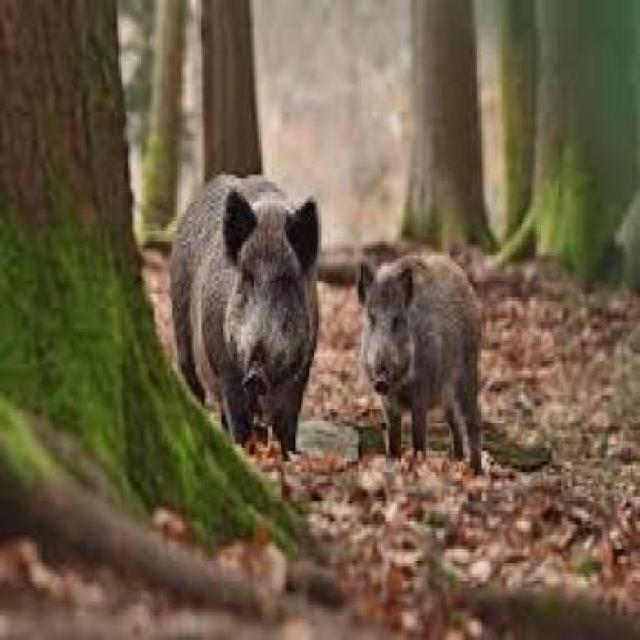wildboar: (166, 162, 326, 461), (352, 248, 488, 474)
